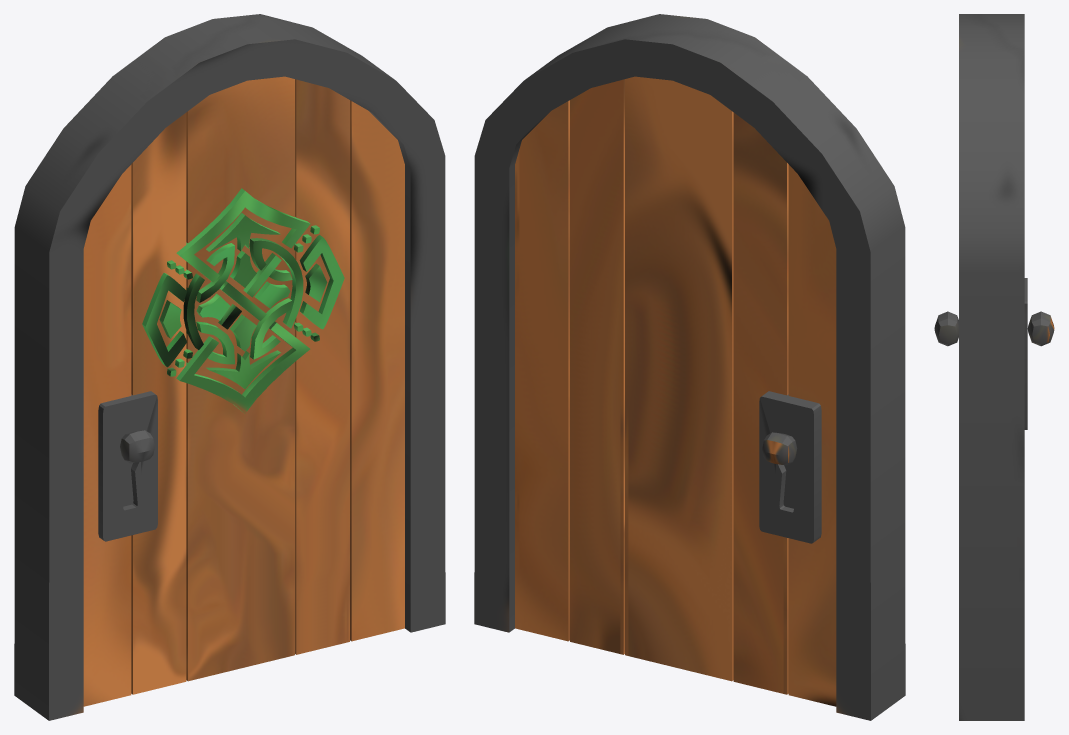
File: door3.glb
The picture shows the model from 3 angles, left to right: view 1: azimuth 30°, elevation 25°; view 2: azimuth 150°, elevation 25°; view 3: azimuth 270°, elevation 25°; orthographic projection. The views are drawn at different scales.
Visible parts, largest first — view 1: Cube; view 2: Cube; view 3: Cube.
Part boxes in pixels (box(x1,y1,x2,y2)): Cube: box(14, 14, 445, 720); Cube: box(474, 14, 905, 720); Cube: box(934, 14, 1054, 720).
Size of the model in its own units: 0.6281 by 0.9512 by 0.1728.
Materials: 1 (1 with a texture image).
